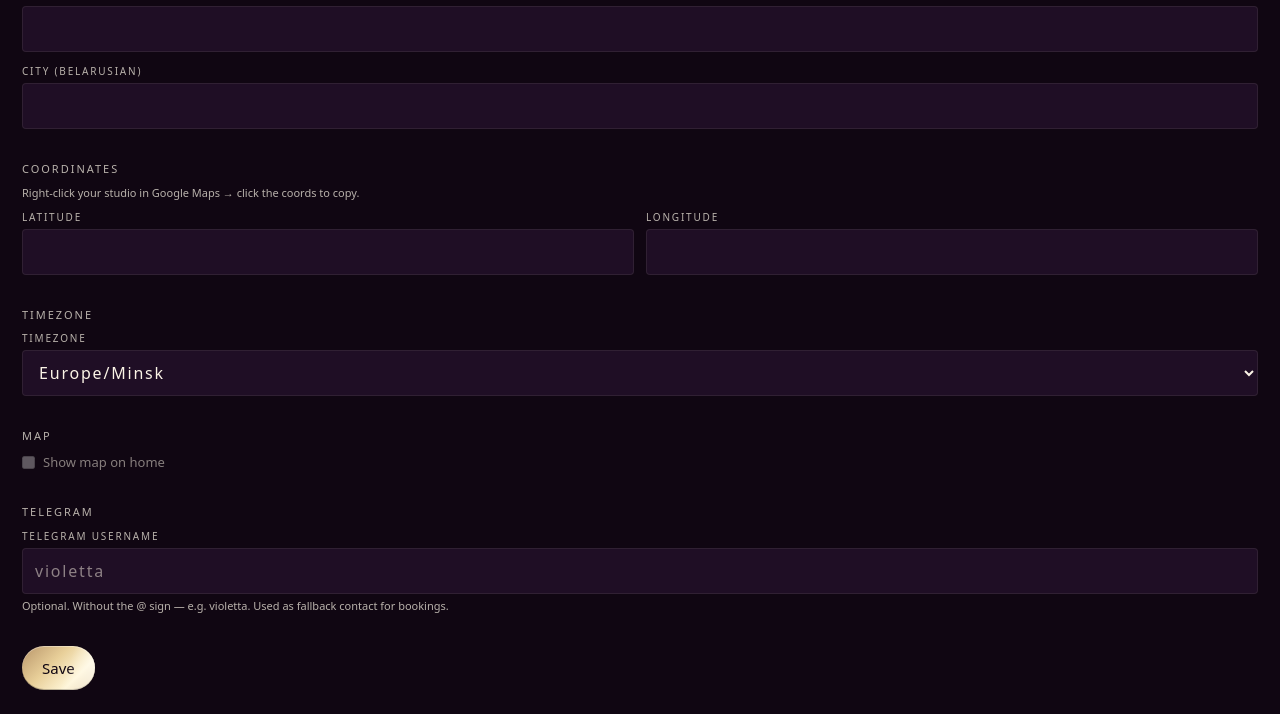
Test: StudioForm › displays the server error message on failure
(page scrolled)
Click the button "Save" at (58, 668), box 22,646 -> 95,690
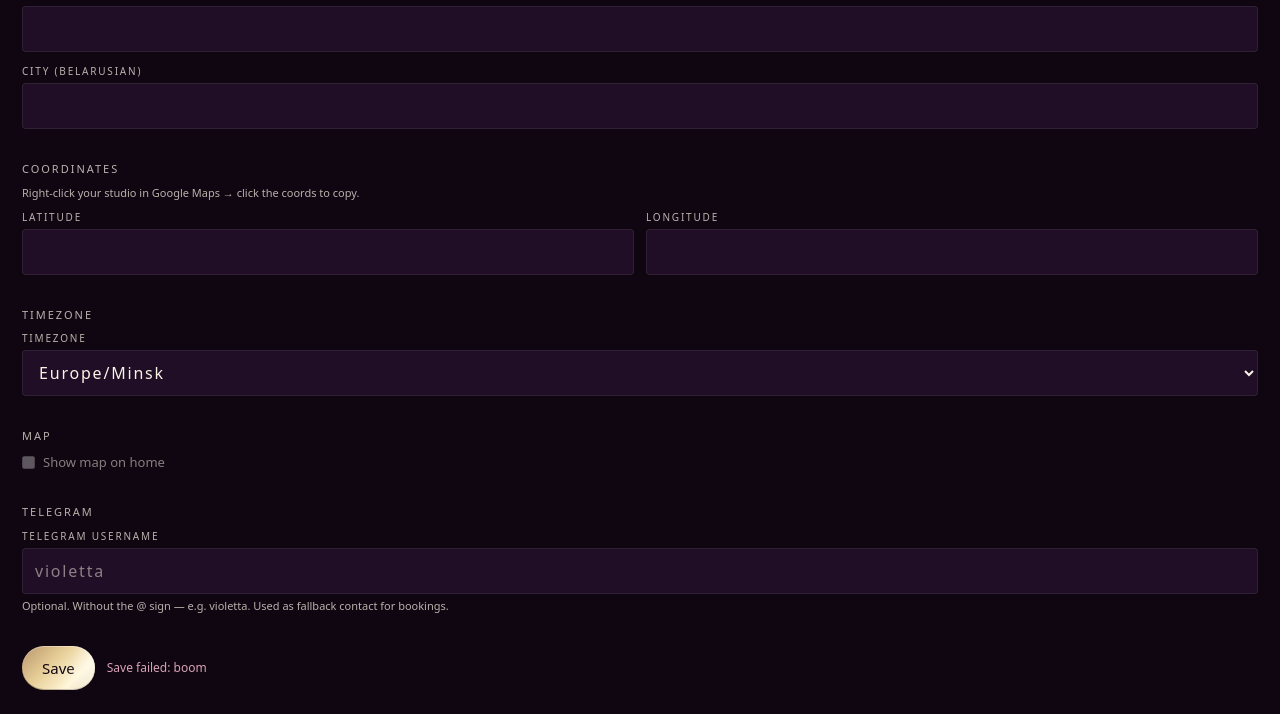
Expected: the text "Save failed: boom" is shown, 107,659 -> 207,677
